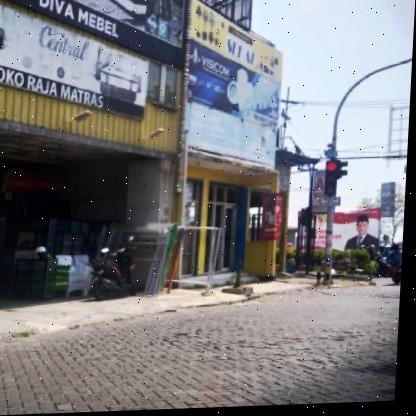Traffic Light -Red-: (325, 163, 339, 198)
